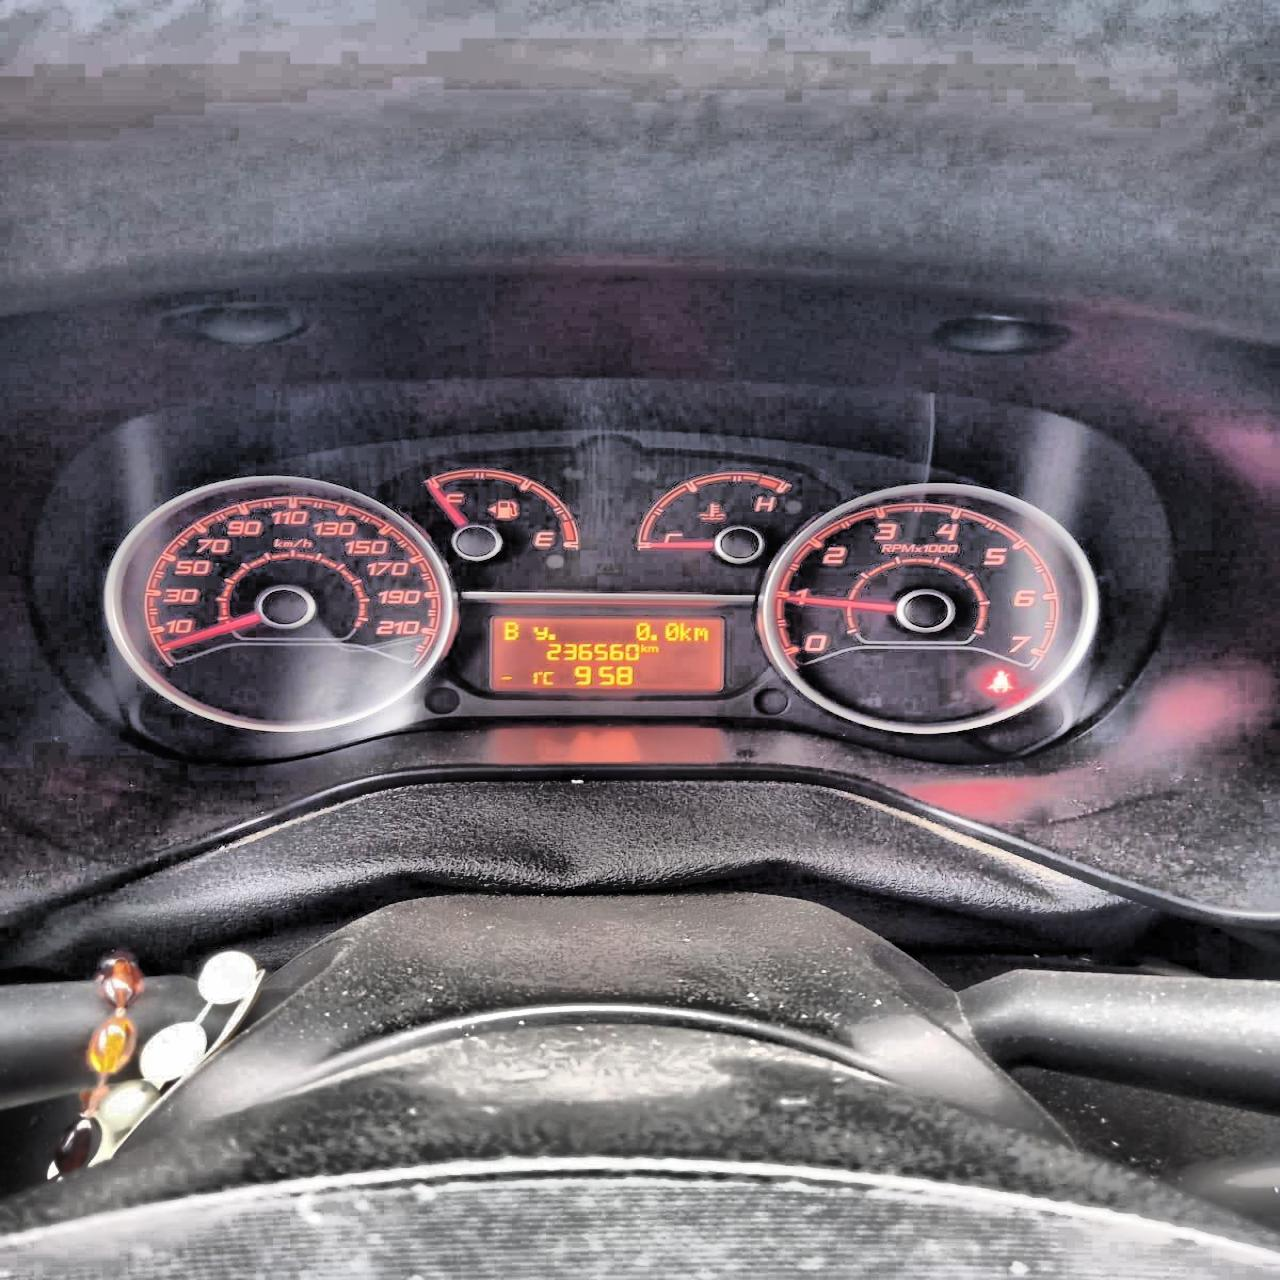-: (649, 633, 658, 640), (547, 634, 556, 640)
0: (622, 644, 639, 661), (634, 621, 649, 640), (663, 621, 679, 640)
1: (531, 672, 538, 685)
2: (545, 644, 561, 660)
3: (561, 642, 577, 660)
5: (598, 665, 614, 685), (593, 644, 608, 660)
6: (577, 642, 592, 660), (608, 644, 622, 660)
8: (614, 665, 633, 685)
9: (574, 665, 591, 685)
X: (503, 621, 518, 640), (693, 626, 708, 641), (679, 622, 690, 641), (532, 626, 547, 640), (540, 670, 553, 685), (647, 646, 659, 652), (639, 644, 646, 652)
odometer: (488, 613, 726, 694)
